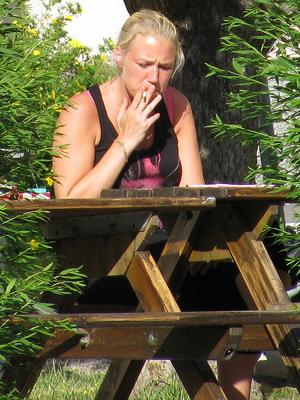person: (46, 9, 206, 198)
